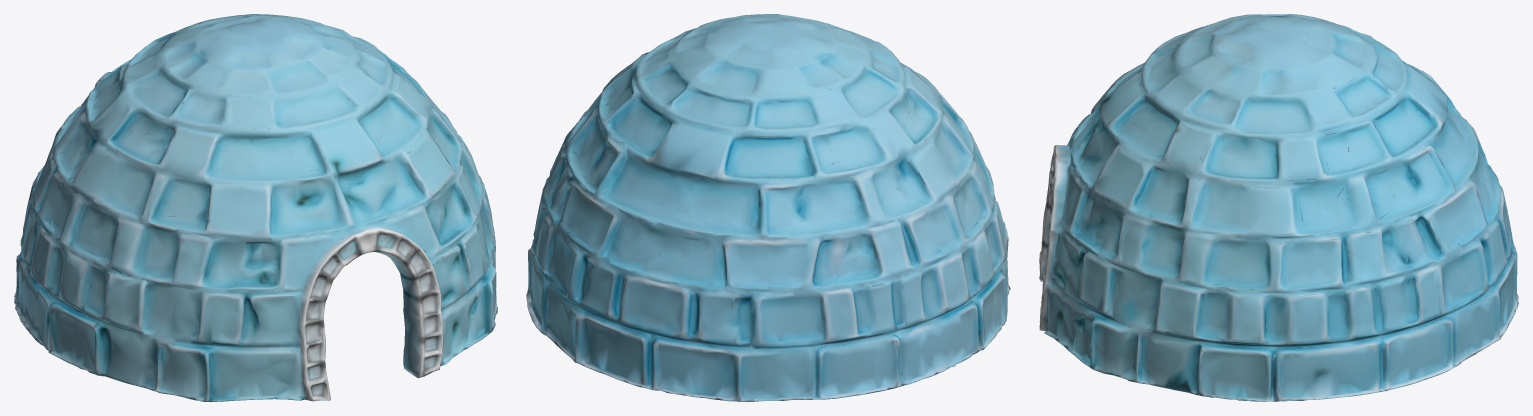
File: refined_model.glb
3 renders of one model, left to right at view 1: azimuth 30°, elevation 25°; view 2: azimuth 150°, elevation 25°; view 3: azimuth 270°, elevation 25°, orthographic.
Size of the model in its own units: 1.89 by 1.15 by 1.86.
Materials: 1 (1 with a texture image).
